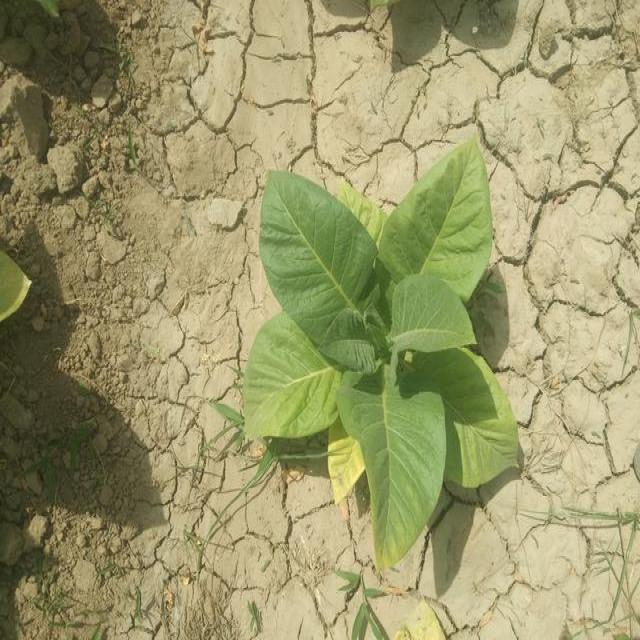crop: (239, 138, 523, 574)
